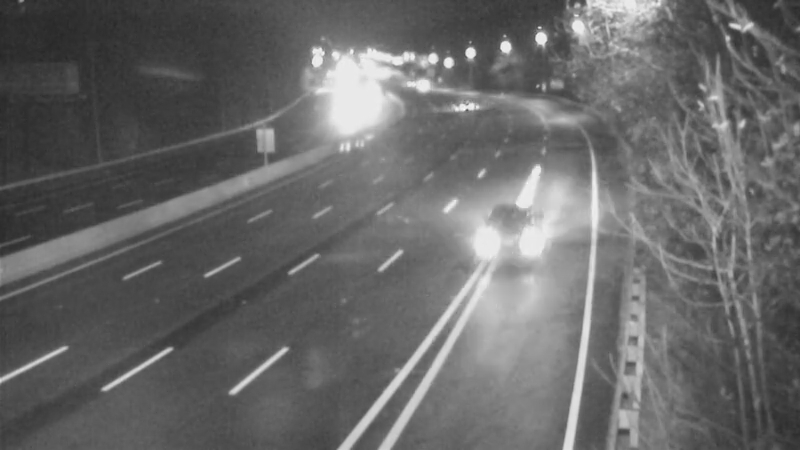vehicle: (483, 208, 563, 288), (440, 79, 490, 129)
